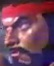ryu: (0, 1, 47, 65)
